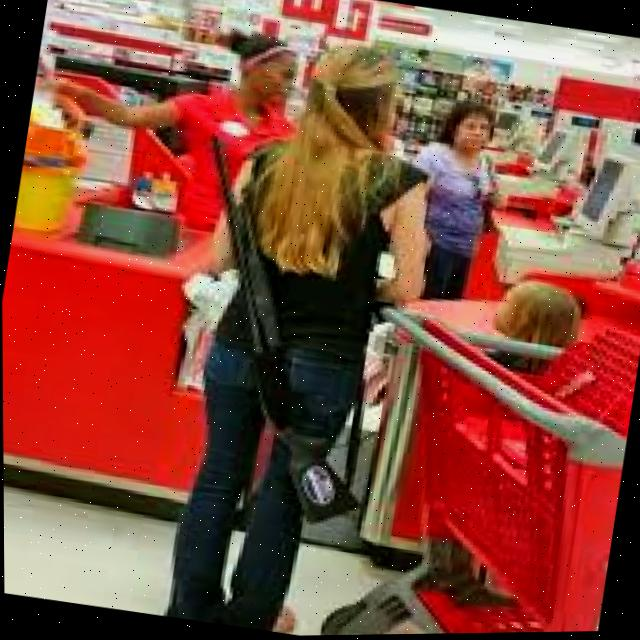firearm: (152, 135, 411, 535)
